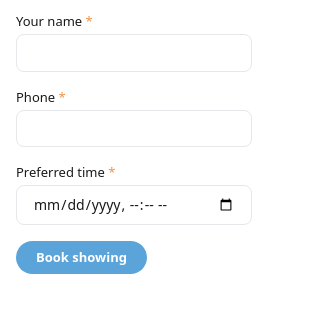
Test: operation_invoke submit flow › renders the server error message into the form block (apply target form, status error)
Step 1. Type "Ana" into the field labelled "Your name *" → (134, 53), box 16,34 -> 252,72
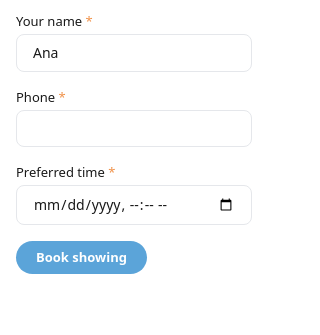
Step 2. Type "+5511912345678" into the field labelled "Phone *" → (134, 128), box 16,110 -> 252,147
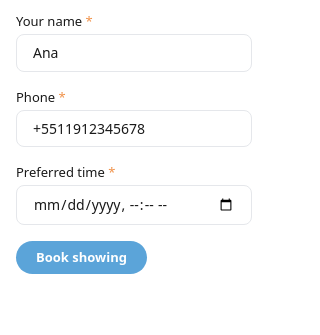
Step 3. Type "2030-01-01T14:00" into the field labelled "Preferred time *" → (134, 205), box 16,185 -> 252,225
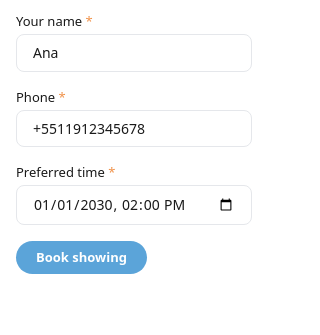
Step 4. Click the button with class "kw-submit" → (81, 257), box 16,241 -> 147,274
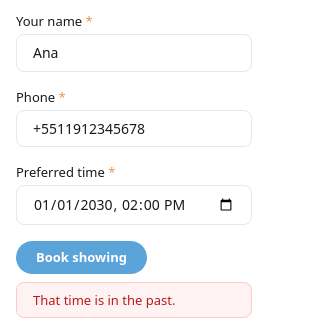
expect the message with class "kw-form-message" reads "That time is in the past.": met, box 33,291 -> 175,309
